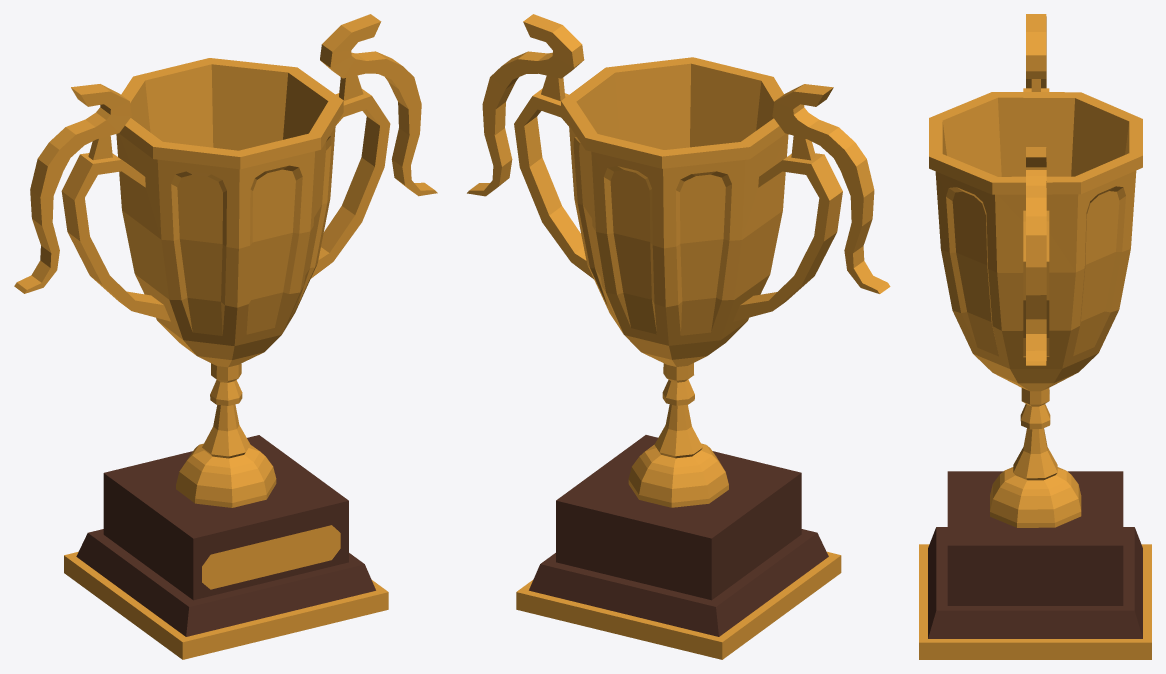
Rendered from Int_Trophy01_2.fbx.
The picture shows the model from 3 angles, left to right: view 1: azimuth 30°, elevation 25°; view 2: azimuth 150°, elevation 25°; view 3: azimuth 270°, elevation 25°; orthographic projection. The views are drawn at different scales.
Parts seen in each view (by area): view 1: Int_Trophy01_2; view 2: Int_Trophy01_2; view 3: Int_Trophy01_2.
Boxes of the visible parts, bbox=[...] form: Int_Trophy01_2: bbox=[14, 14, 437, 659]; Int_Trophy01_2: bbox=[467, 14, 890, 659]; Int_Trophy01_2: bbox=[919, 14, 1151, 659].
Size of what is drawn, in the model's own units: 44.7 by 22.27 by 55.44.
